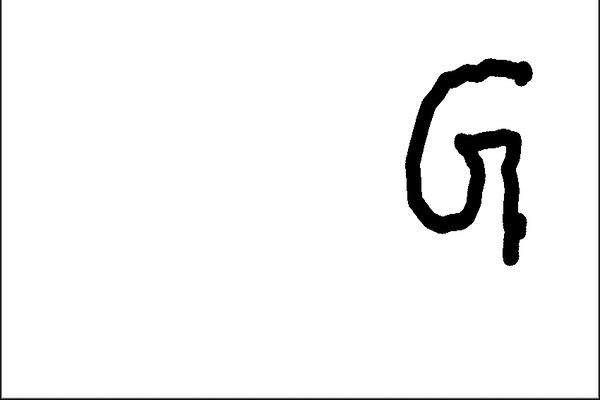G: (399, 54, 538, 267)
